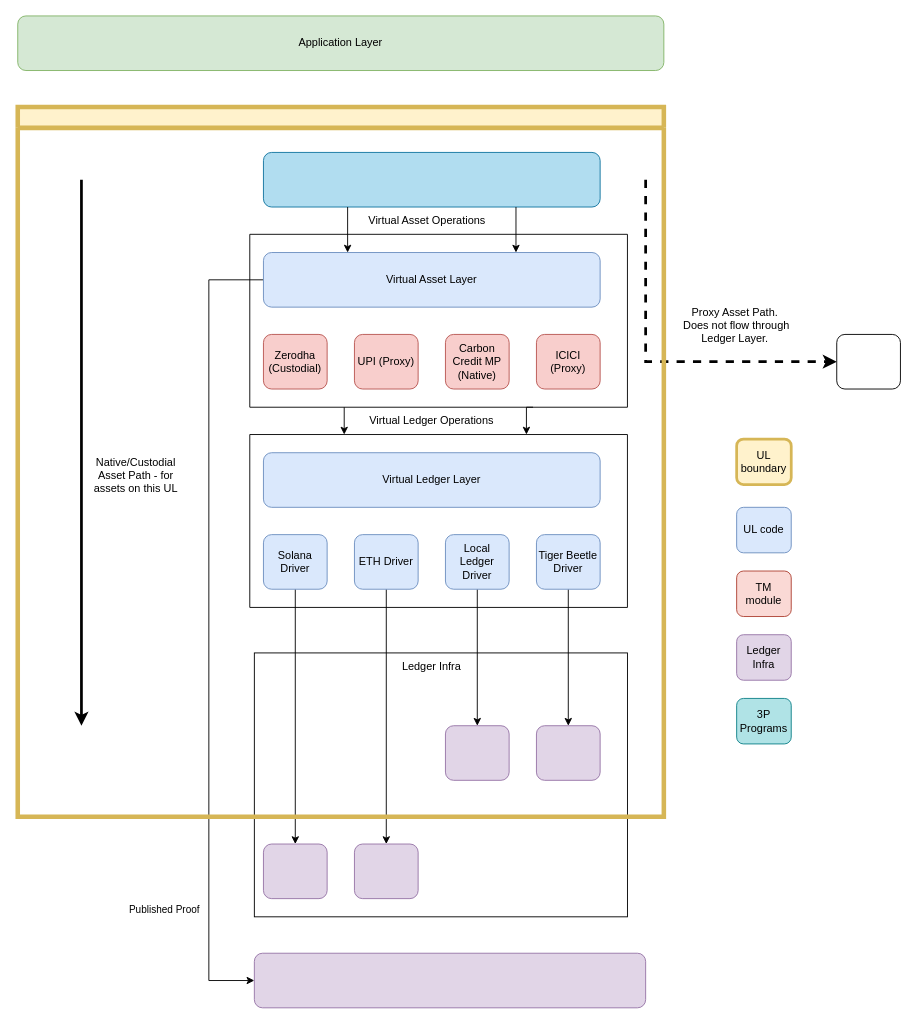
Image size: 916x1024. Some labels were removed from this diagram. The shapes that lost their labels are listed below. From the top down, each one's box as (x1, y1, x2, y2) in pixels, then its label:
(263, 152, 600, 207): Programs/Workflows
(836, 334, 900, 389): ICICI Core Banking
(15, 104, 666, 819): Unified Ledger Instance
(445, 725, 509, 780): Local Ledger
(536, 725, 600, 780): Tiger Beetle
(263, 843, 327, 899): Solana
(354, 843, 418, 899): ETH
(253, 952, 646, 1008): IPS
